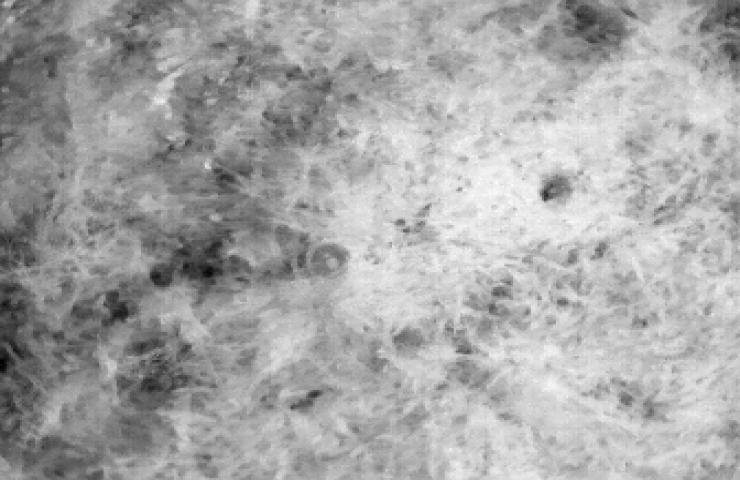landmines: (307, 238, 357, 282)
